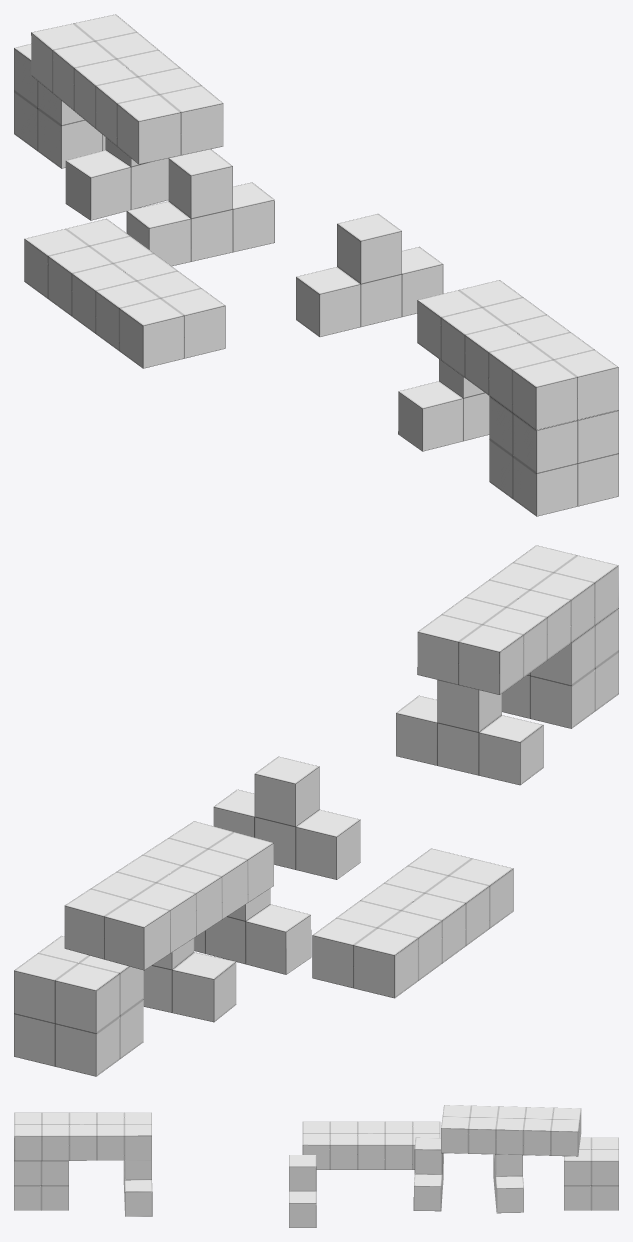
3 renders of one model, top to bottom at view 1: azimuth 30°, elevation 25°; view 2: azimuth 150°, elevation 25°; view 3: azimuth 270°, elevation 25°, orthographic. The views are drawn at different scales.
Visible parts, largest first — view 1: GridPlank_0:2, GridPlank_0:1, GridPlank_0, GridTShape_0:3, Plane/BasicEnvironment/StartCube-1, GridTShape_0, GridTShape_0:1, GridTShape_0:2, Plane/BasicEnvironment/StartCube-2; view 2: GridPlank_0, GridPlank_0:1, GridPlank_0:2, Plane/BasicEnvironment/StartCube-2, GridTShape_0:2, GridTShape_0:3, Plane/BasicEnvironment/StartCube-1, GridTShape_0, GridTShape_0:1; view 3: GridPlank_0, GridPlank_0:2, GridPlank_0:1, Plane/BasicEnvironment/StartCube-2, Plane/BasicEnvironment/StartCube-1, GridTShape_0, GridTShape_0:3, GridTShape_0:1, GridTShape_0:2.
Boxes of the visible parts, box(x1,y1,x2,y2) form: GridPlank_0:2: box(417, 280, 618, 430); GridPlank_0:1: box(24, 218, 225, 368); GridPlank_0: box(31, 14, 223, 164); GridTShape_0:3: box(296, 214, 443, 336); Plane/BasicEnvironment/StartCube-1: box(489, 396, 618, 516); GridTShape_0: box(126, 149, 274, 266); GridTShape_0:1: box(65, 137, 211, 220); GridTShape_0:2: box(398, 359, 489, 451); Plane/BasicEnvironment/StartCube-2: box(14, 44, 105, 168); GridPlank_0: box(64, 821, 273, 970); GridPlank_0:1: box(312, 848, 513, 998); GridPlank_0:2: box(417, 545, 618, 694); Plane/BasicEnvironment/StartCube-2: box(14, 936, 143, 1076); GridTShape_0:2: box(396, 680, 543, 785); GridTShape_0:3: box(213, 756, 360, 879); Plane/BasicEnvironment/StartCube-1: box(502, 608, 618, 728); GridTShape_0: box(194, 888, 311, 974); GridTShape_0:1: box(143, 938, 236, 1022); GridPlank_0: box(441, 1105, 581, 1156); GridPlank_0:2: box(14, 1112, 151, 1160); GridPlank_0:1: box(302, 1121, 440, 1169); Plane/BasicEnvironment/StartCube-2: box(564, 1137, 618, 1210); Plane/BasicEnvironment/StartCube-1: box(14, 1138, 68, 1210); GridTShape_0: box(413, 1137, 443, 1211); GridTShape_0:3: box(289, 1155, 316, 1227); GridTShape_0:1: box(493, 1154, 523, 1213); GridTShape_0:2: box(123, 1160, 152, 1216).
Bounding box in the file's own units: 0.7002 × 0.3011 × 2.2.
